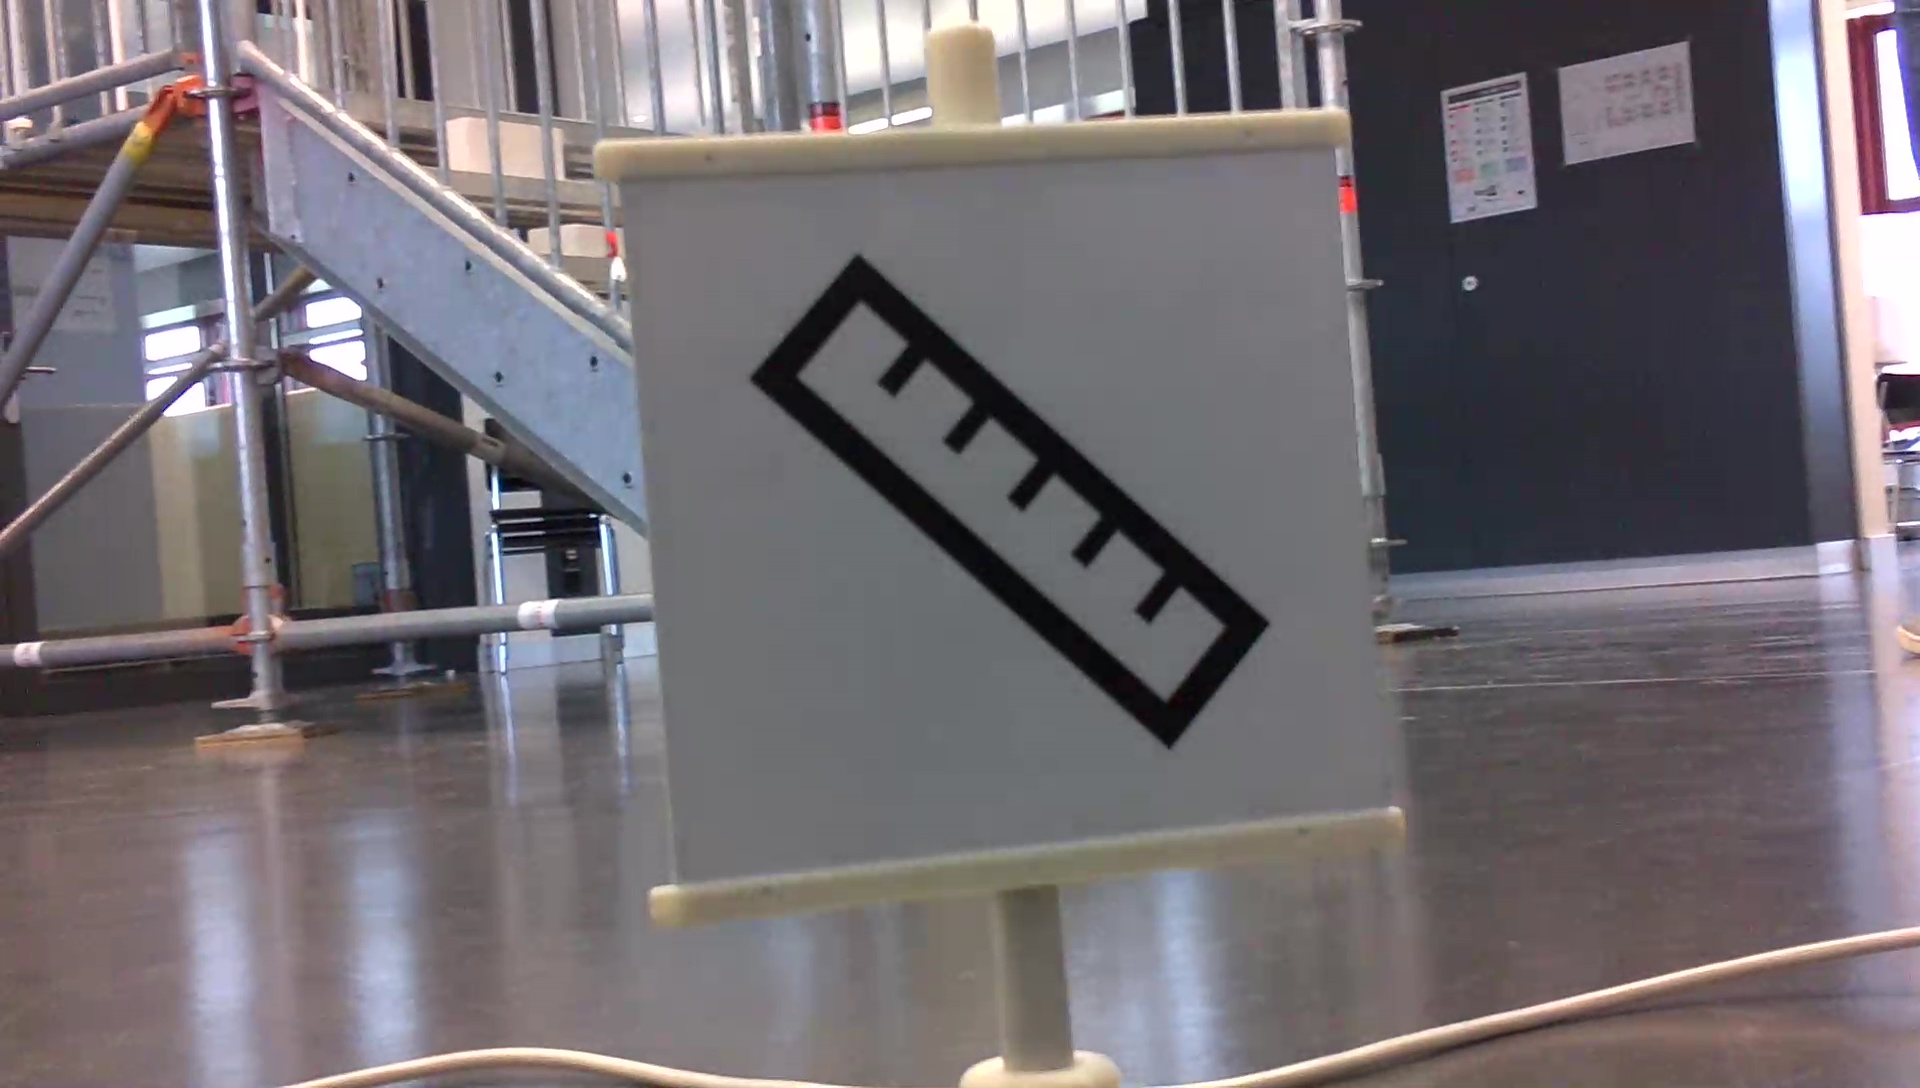ruler: (736, 249, 1273, 753)
